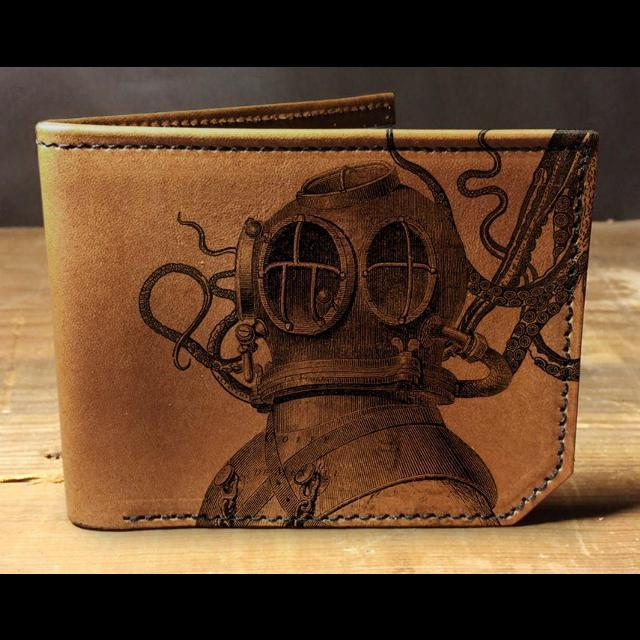wallet: (29, 87, 607, 541)
